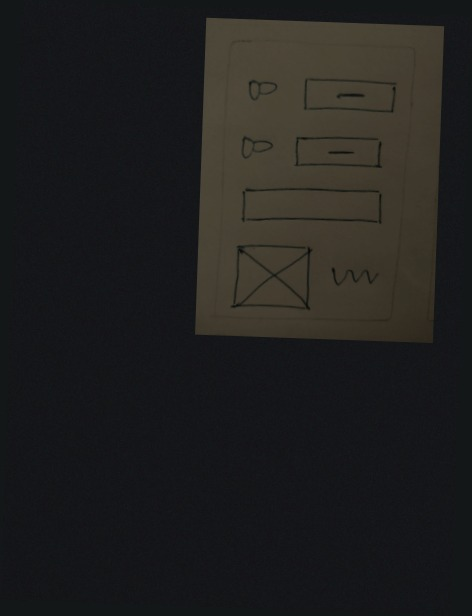button: (300, 73, 399, 121), (291, 127, 390, 175)
image: (228, 239, 318, 316)
switch: (243, 71, 280, 106), (238, 130, 275, 164)
text: (326, 262, 381, 292)
text_input: (236, 183, 387, 228)
